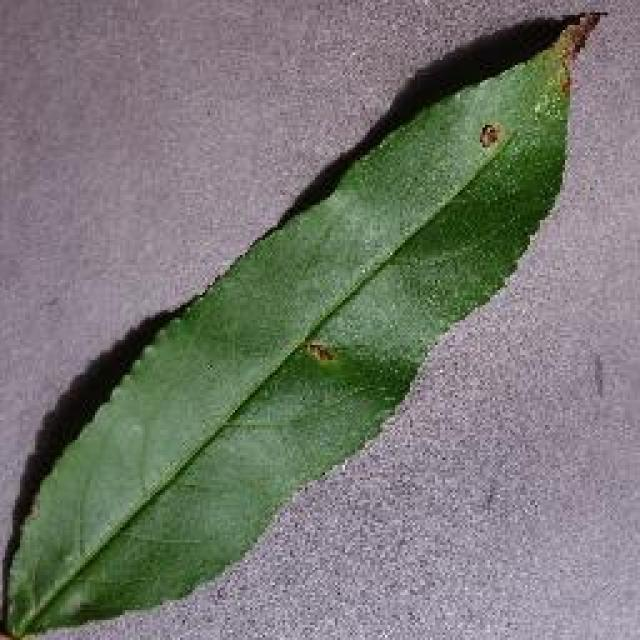Peach_Bacterial_Spot: (373, 60, 595, 300)
